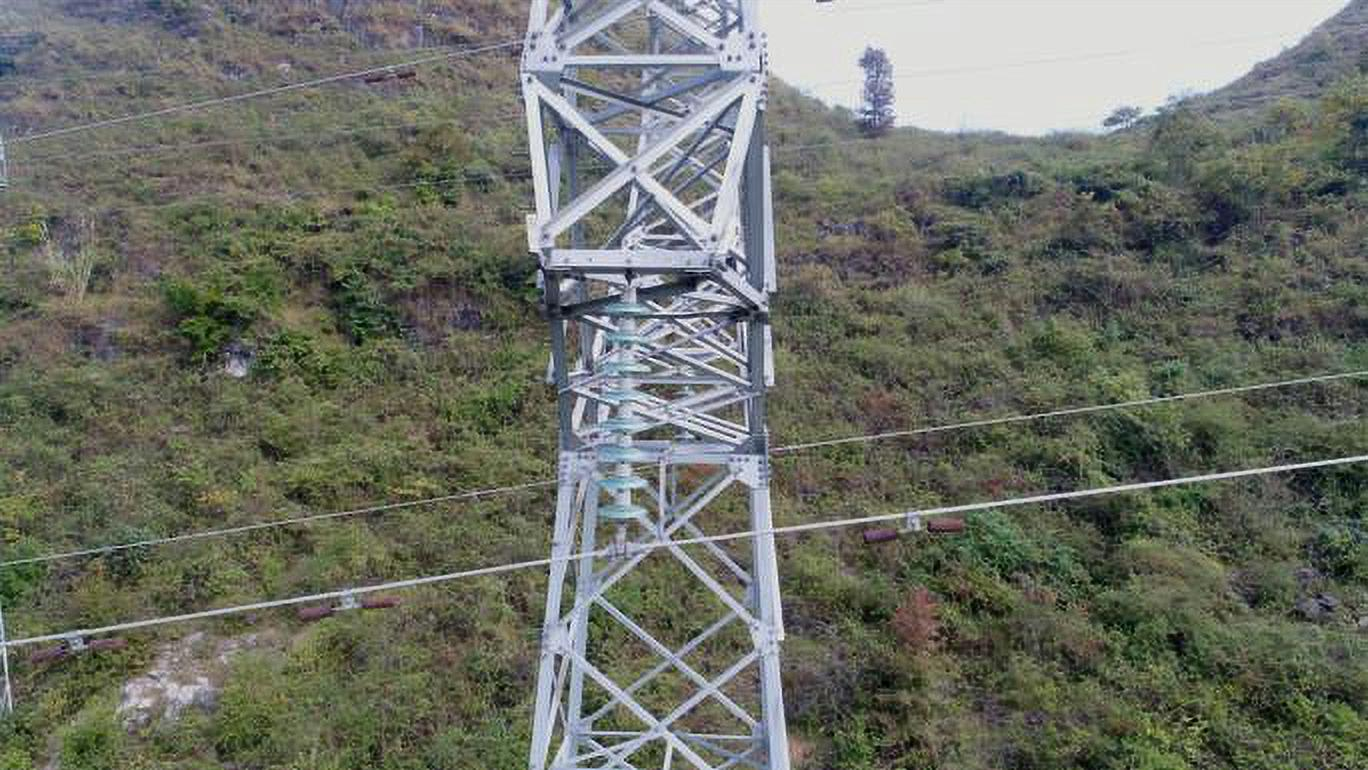insulator: (592, 299, 654, 524)
